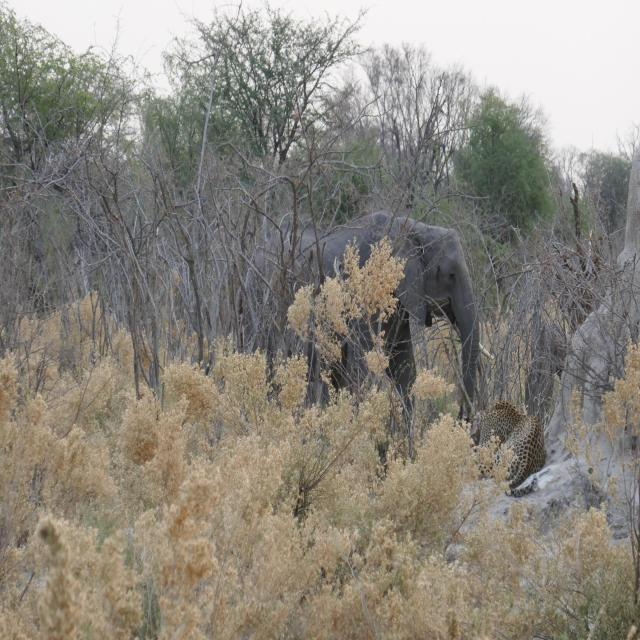Leopard: (470, 396, 546, 498)
